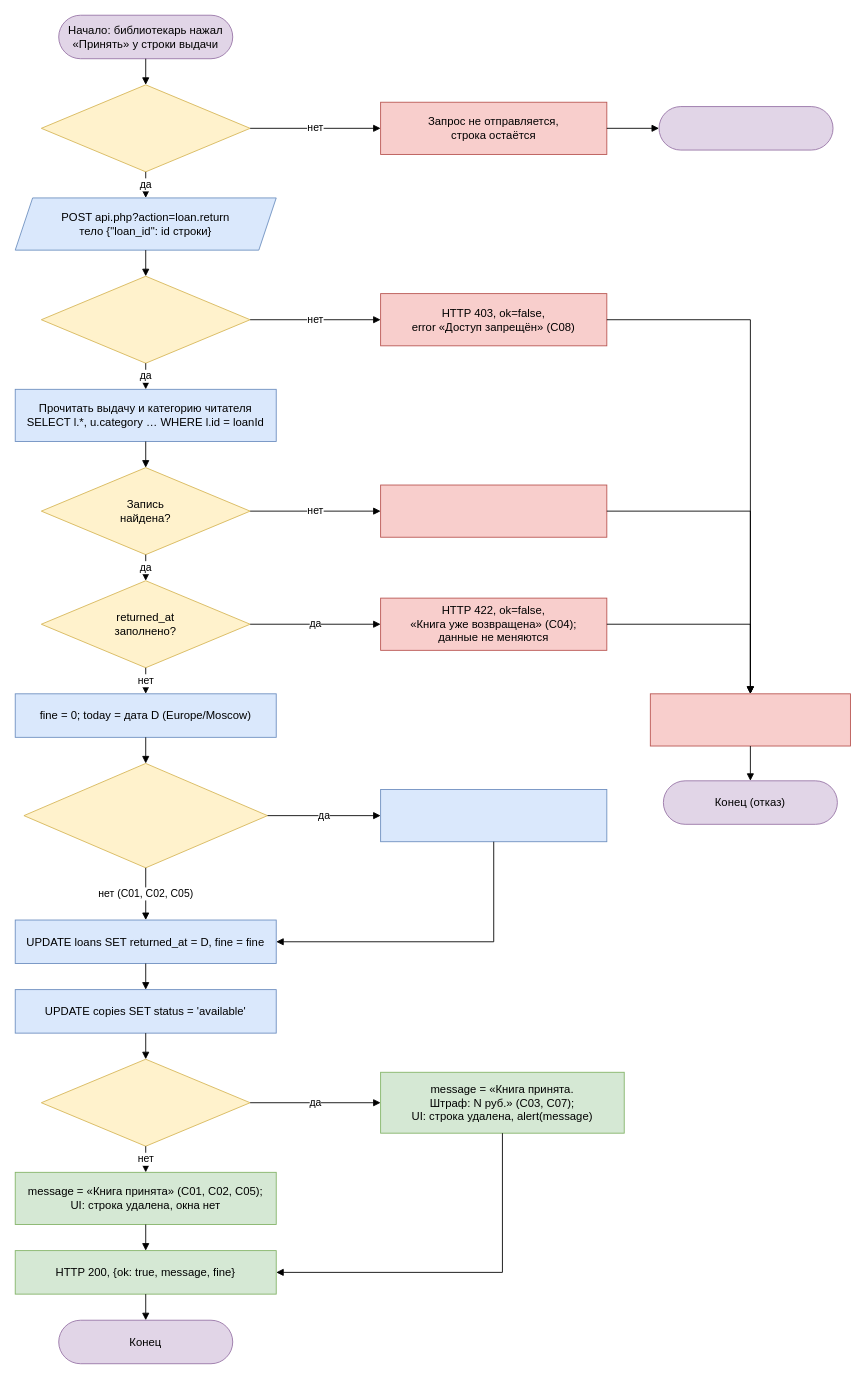
This 866x1379 diagram has some shape labels left out. The shapes that lost their labels are listed below. From the top down, each one's box as (x1, y1, x2, y2) in pixels, then its label:
(40, 84, 250, 172): confirm «Принять книгу?» нажато «ОК»?
(658, 106, 833, 150): Конец (отмена)
(40, 275, 250, 363): Роль librarian или admin?
(380, 484, 607, 537): HTTP 422, ok=false, «Выдача не найдена» (C06)
(649, 693, 850, 746): UI: alert(message или error), строка остаётся
(23, 763, 268, 868): today > due_at (строго) и category = student?
(380, 789, 607, 842): fine = floor((today − due_at) / 86400) × FINE_PER_DAY (10) (C03, C07)
(40, 1058, 250, 1146): fine > 0?
